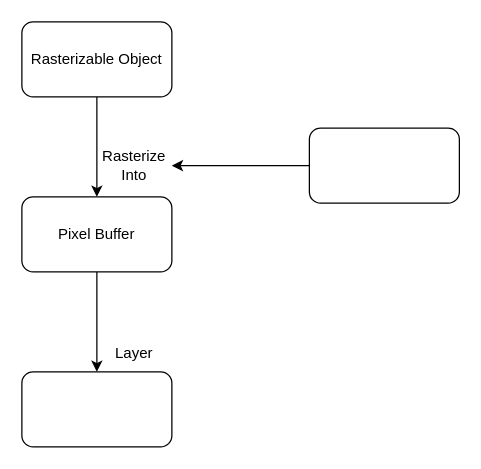
Some shapes in this 481 by 469 pixel diagram are drawn without their labels. The shapes that lost their labels are listed below. From the top down, each one's centre as x and y in pixels, then its label:
[383,165]: Z buffer
[96,409]: Frame Buffer
